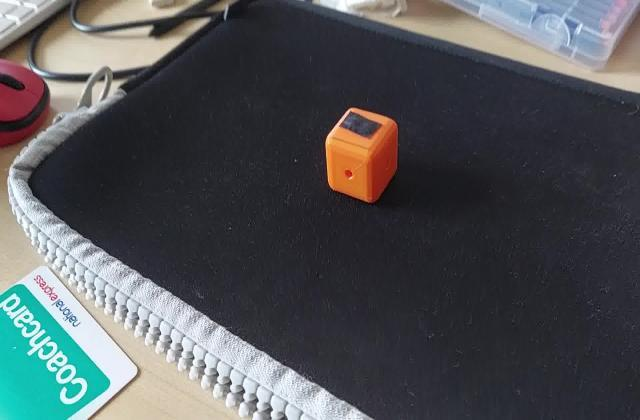black: (339, 112, 386, 140)
cube: (324, 105, 402, 207)
